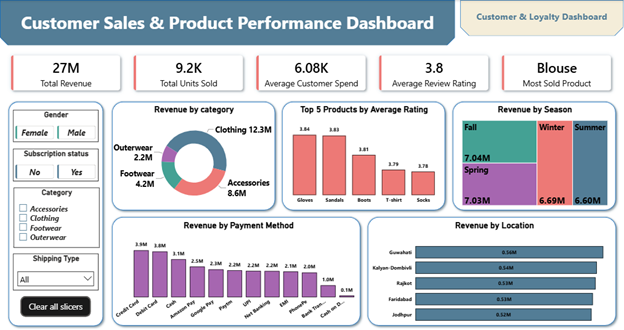

What the dashboard file says about the page in this screenshot:
{"tool":"powerbi","page":{"name":"SALES & PRODUCT","canvas":[1500,800],"ordinal":0},"visuals":[{"type":"shape","box":[3.3,0,1090.5,119.5],"z":0},{"type":"shape","box":[1105.4,0,391.7,86.3],"z":1000},{"type":"cardVisual","fields":{"Data":["public customer_data.Total Revenue","public customer_data.Total Units Sold","public customer_data.Average Customer Spend","public customer_data.Average Review Rating","public customer_data.Most Sold Product"]},"box":[0,102.9,1500.4,142.7],"z":2000},{"type":"shape","box":[262.2,234,408.3,277.2],"z":3000},{"type":"shape","box":[14.9,234,244,554.4],"z":4000},{"type":"shape","box":[670.5,234,408.3,277.2],"z":5000},{"type":"shape","box":[1078.8,234,408.3,277.2],"z":6000},{"type":"shape","box":[262.2,511.2,612.4,277.2],"z":7000},{"type":"shape","box":[874.7,511.2,612.4,277.2],"z":8000},{"type":"donutChart","title":"Revenue by category","fields":{"Category":["public customer_data.category"],"Y":["public customer_data.Total Revenue"]},"box":[270.3,249.1,395.8,247.3],"z":9000},{"type":"clusteredBarChart","title":"Revenue by Location","fields":{"Y":["public customer_data.Total Revenue"],"Category":["public customer_data.location"]},"box":[888.7,526.5,598.9,261.5],"z":10000},{"type":"clusteredColumnChart","title":"Top 5 Products by Average Rating","fields":{"Category":["public customer_data.item_purchased"],"Y":["public customer_data.Average Review Rating"]},"box":[671.4,249.1,408.1,247.3],"z":11000},{"type":"clusteredColumnChart","title":"Revenue by Payment Method","fields":{"Category":["public customer_data.payment_method"],"Y":["public customer_data.Total Revenue"]},"box":[273.9,526.5,600.7,249.1],"z":12000},{"type":"advancedSlicerVisual","fields":{"Values":["public customer_data.gender"]},"box":[34.2,262.5,205.4,76.6],"z":13000},{"type":"advancedSlicerVisual","fields":{"Values":["public customer_data.subscription_status"]},"box":[34.2,355.4,205.4,78.3],"z":14000},{"type":"slicer","title":"Category","fields":{"Values":["public customer_data.category"]},"box":[34.9,448.1,205.8,144.4],"z":15000},{"type":"slicer","title":"Shipping Type","fields":{"Values":["public customer_data.shipping_type"]},"box":[34.2,606.5,205.4,88],"z":16000},{"type":"treemap","title":"Revenue by Season","fields":{"Group":["public customer_data.season"],"Values":["public customer_data.Total Revenue"]},"box":[1105.4,249,358.5,247.3],"z":17000},{"type":"actionButton","box":[51.5,708.7,169.3,49.8],"z":18000}]}

Visuals, with their boxes in screenshot pixels (x1, y1, x2, y2), scaled from the page's 1500x800 canvas onto the 624x330 screenshot:
shape: left=1, top=0, right=455, bottom=49
shape: left=460, top=0, right=623, bottom=36
cardVisual - public customer_data.Total Revenue x public customer_data.Total Units Sold: left=0, top=42, right=623, bottom=101
shape: left=109, top=97, right=279, bottom=211
shape: left=6, top=97, right=108, bottom=325
shape: left=279, top=97, right=449, bottom=211
shape: left=449, top=97, right=619, bottom=211
shape: left=109, top=211, right=364, bottom=325
shape: left=364, top=211, right=619, bottom=325
"Revenue by category" donutChart: left=112, top=103, right=277, bottom=205
"Revenue by Location" clusteredBarChart: left=370, top=217, right=619, bottom=325
"Top 5 Products by Average Rating" clusteredColumnChart: left=279, top=103, right=449, bottom=205
"Revenue by Payment Method" clusteredColumnChart: left=114, top=217, right=364, bottom=320
advancedSlicerVisual - public customer_data.gender: left=14, top=108, right=100, bottom=140
advancedSlicerVisual - public customer_data.subscription_status: left=14, top=147, right=100, bottom=179
"Category" slicer: left=15, top=185, right=100, bottom=244
"Shipping Type" slicer: left=14, top=250, right=100, bottom=286
"Revenue by Season" treemap: left=460, top=103, right=609, bottom=205
actionButton: left=21, top=292, right=92, bottom=313
